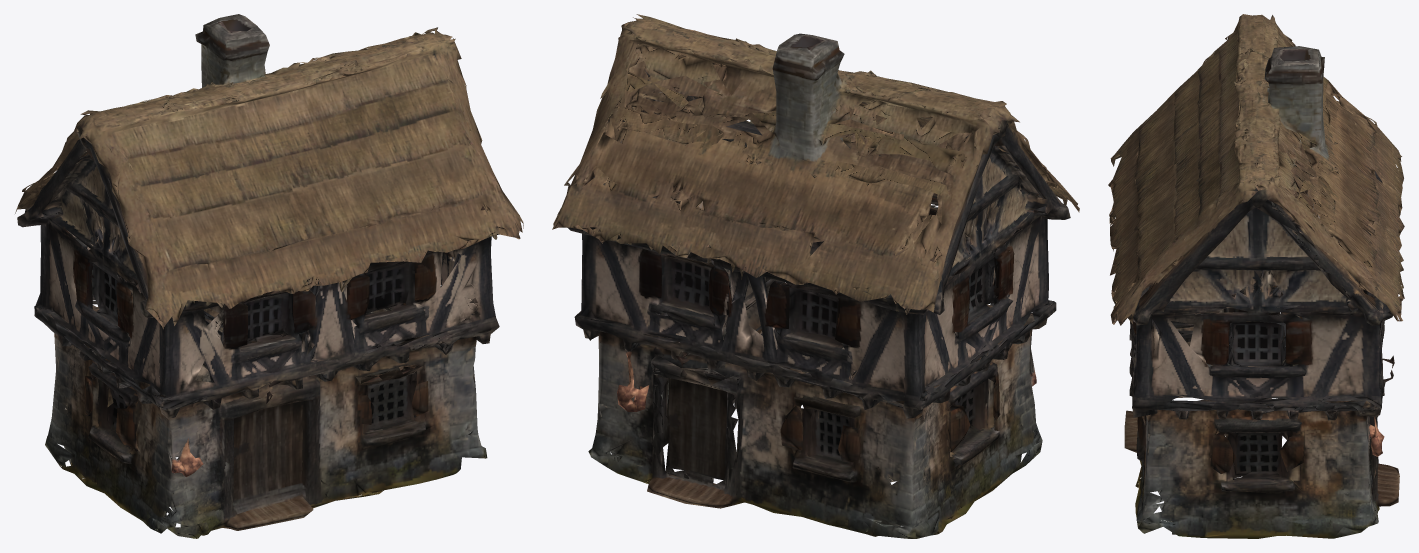
File: prop_house_twostorey.glb
The picture shows the model from 3 angles, left to right: view 1: azimuth 30°, elevation 25°; view 2: azimuth 150°, elevation 25°; view 3: azimuth 270°, elevation 25°; orthographic projection. The views are drawn at different scales.
Bounding box in the file's own units: 0.9344 × 0.994 × 0.6586.
1 material, 1 textured.
